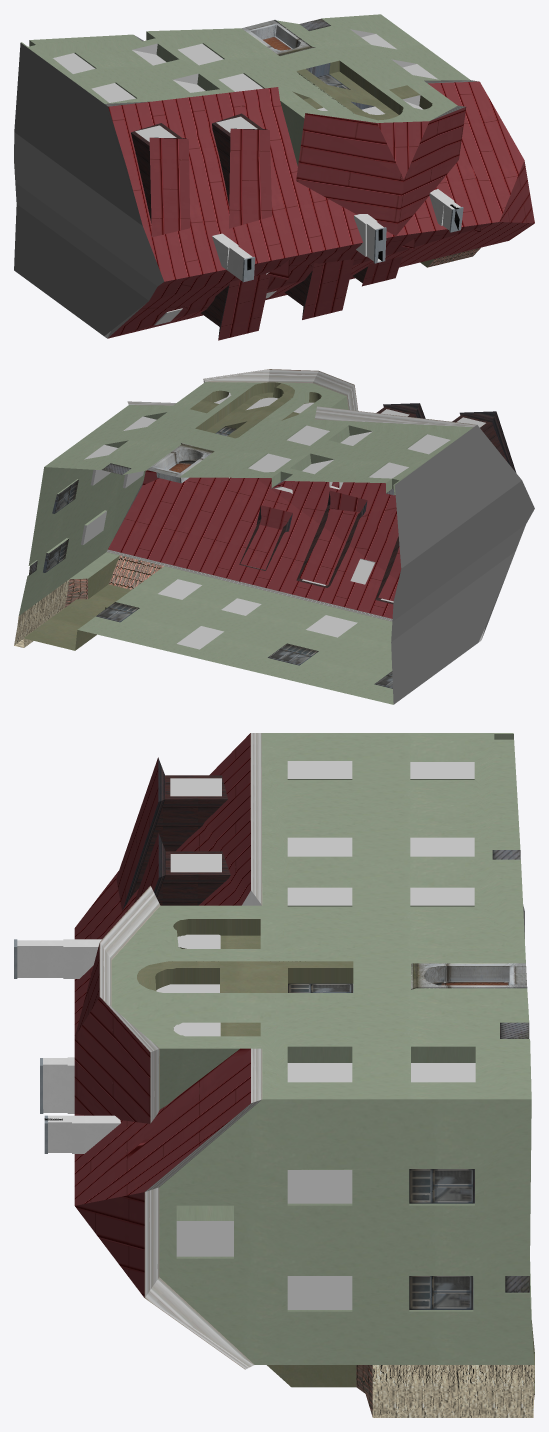
Rendered from Myyrivahe_39-origo.obj.
The picture shows the model from 3 angles, top to bottom: view 1: azimuth 30°, elevation 25°; view 2: azimuth 150°, elevation 25°; view 3: azimuth 270°, elevation 25°; orthographic projection. The views are drawn at different scales.
Visible parts, largest first — view 1: Myyrivahe_39; view 2: Myyrivahe_39; view 3: Myyrivahe_39.
Boxes of the visible parts, box(x1,y1,x2,y2) form: Myyrivahe_39: box(14, 14, 534, 340); Myyrivahe_39: box(14, 369, 534, 704); Myyrivahe_39: box(14, 733, 534, 1417).
Bounding box in the file's own units: 19.38 × 12 × 14.38.
